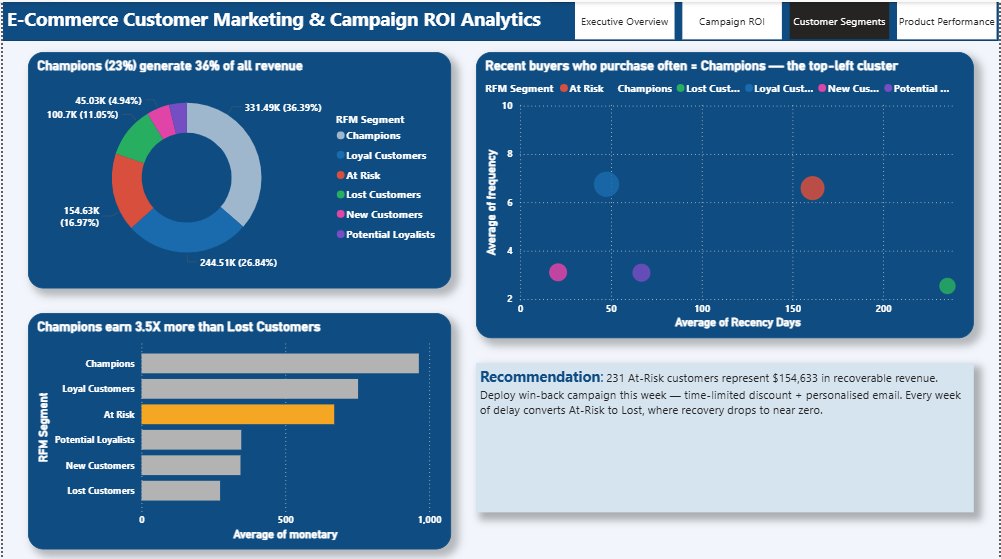

The dashboard page shown, as its layout file describes it:
{"tool":"powerbi","page":{"name":"Customer Segments","canvas":[1280,720],"ordinal":2},"visuals":[{"type":"shape","box":[0,0,1280,50],"z":0},{"type":"pageNavigator","box":[736,0,544,48],"z":1000},{"type":"textbox","box":[0,0,704,48],"z":2000},{"type":"donutChart","title":"Champions (23%) generate 36% of all revenue","fields":{"Y":["Sum(rfm_segments.monetary)"],"Category":["rfm_segments.rfm_segment"]},"box":[32,64,544,304],"z":3000},{"type":"clusteredBarChart","title":"Champions earn 3.5X more than Lost Customers","fields":{"Category":["rfm_segments.rfm_segment"],"Y":["Avg(rfm_segments.monetary)"]},"box":[32,400,544,304],"z":4000},{"type":"scatterChart","title":"Recent buyers who purchase often = Champions — the top-left cluster","fields":{"X":["Avg(rfm_segments.recency_days)"],"Y":["Avg(rfm_segments.frequency)"],"Size":["Avg(rfm_segments.monetary)"],"Series":["rfm_segments.rfm_segment"]},"box":[608,64,640,368],"z":5000},{"type":"textbox","box":[608,464,640,192],"z":6000}]}

Visuals, with their boxes in screenshot pixels (x1, y1, x2, y2), scaled from the page's 1280x720 canvas onto the 1001x559 screenshot:
shape: 0,0,1000,39
pageNavigator: 576,0,1000,37
textbox: 0,0,551,37
"Champions (23%) generate 36% of all revenue" donutChart: 25,50,450,286
"Champions earn 3.5X more than Lost Customers" clusteredBarChart: 25,311,450,547
"Recent buyers who purchase often = Champions — the top-left cluster" scatterChart: 475,50,976,335
textbox: 475,360,976,509
